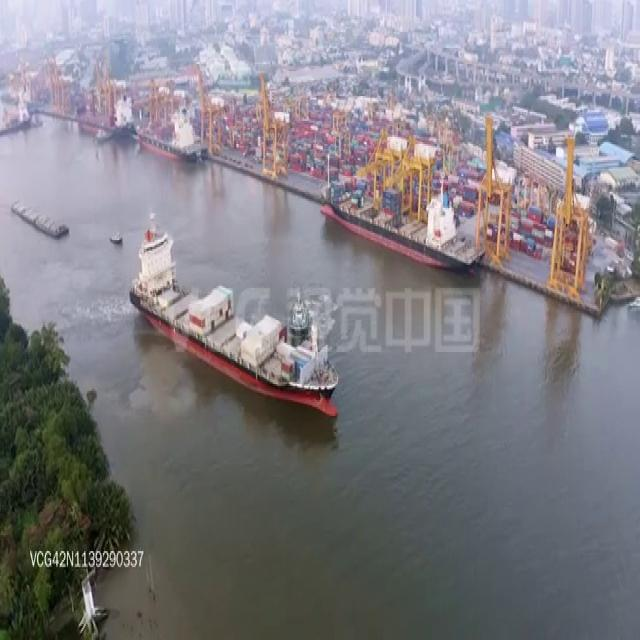cargoship: (130, 214, 342, 420), (323, 165, 485, 267), (136, 104, 203, 166)
